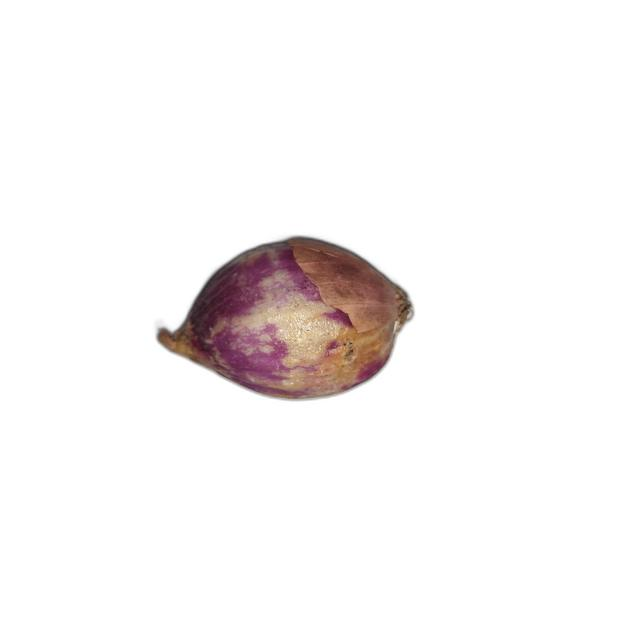onion: (156, 237, 414, 401)
